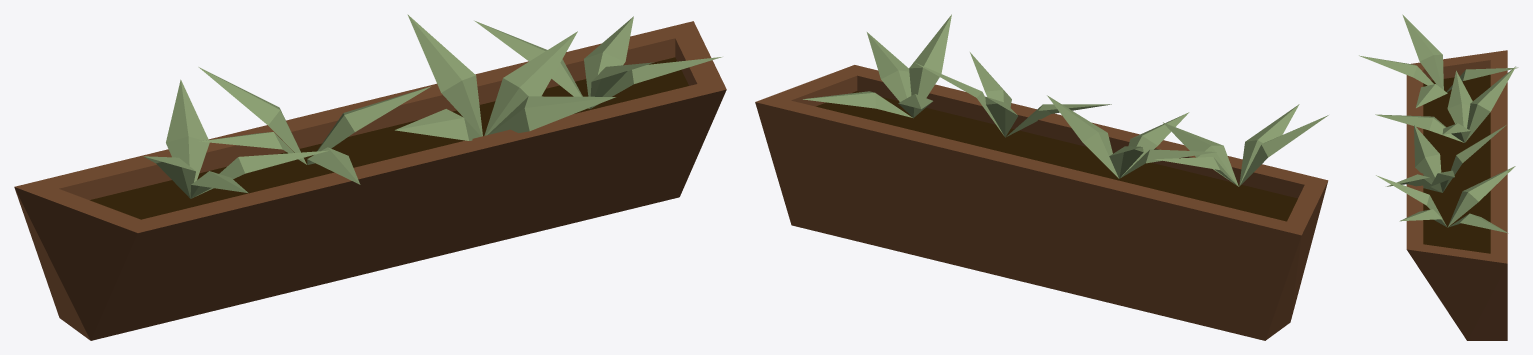
File: WindowPlants1.fbx
3 views of the same model, side by side, from view 1: azimuth 30°, elevation 25°; view 2: azimuth 150°, elevation 25°; view 3: azimuth 270°, elevation 25° (orthographic). The views are drawn at different scales.
Parts seen in each view (by area): view 1: WindowPlants; view 2: WindowPlants; view 3: WindowPlants.
Part boxes in pixels (<box>): WindowPlants: <box>14,14,726,340</box>; WindowPlants: <box>755,14,1328,340</box>; WindowPlants: <box>1359,14,1518,340</box>.
Size of the model in its own units: 1.5 by 0.4668 by 0.4781.
